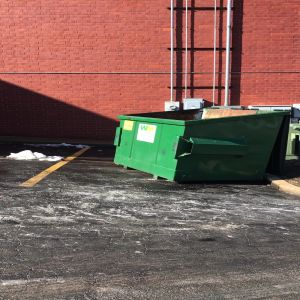Dumpster: (112, 106, 295, 186)
